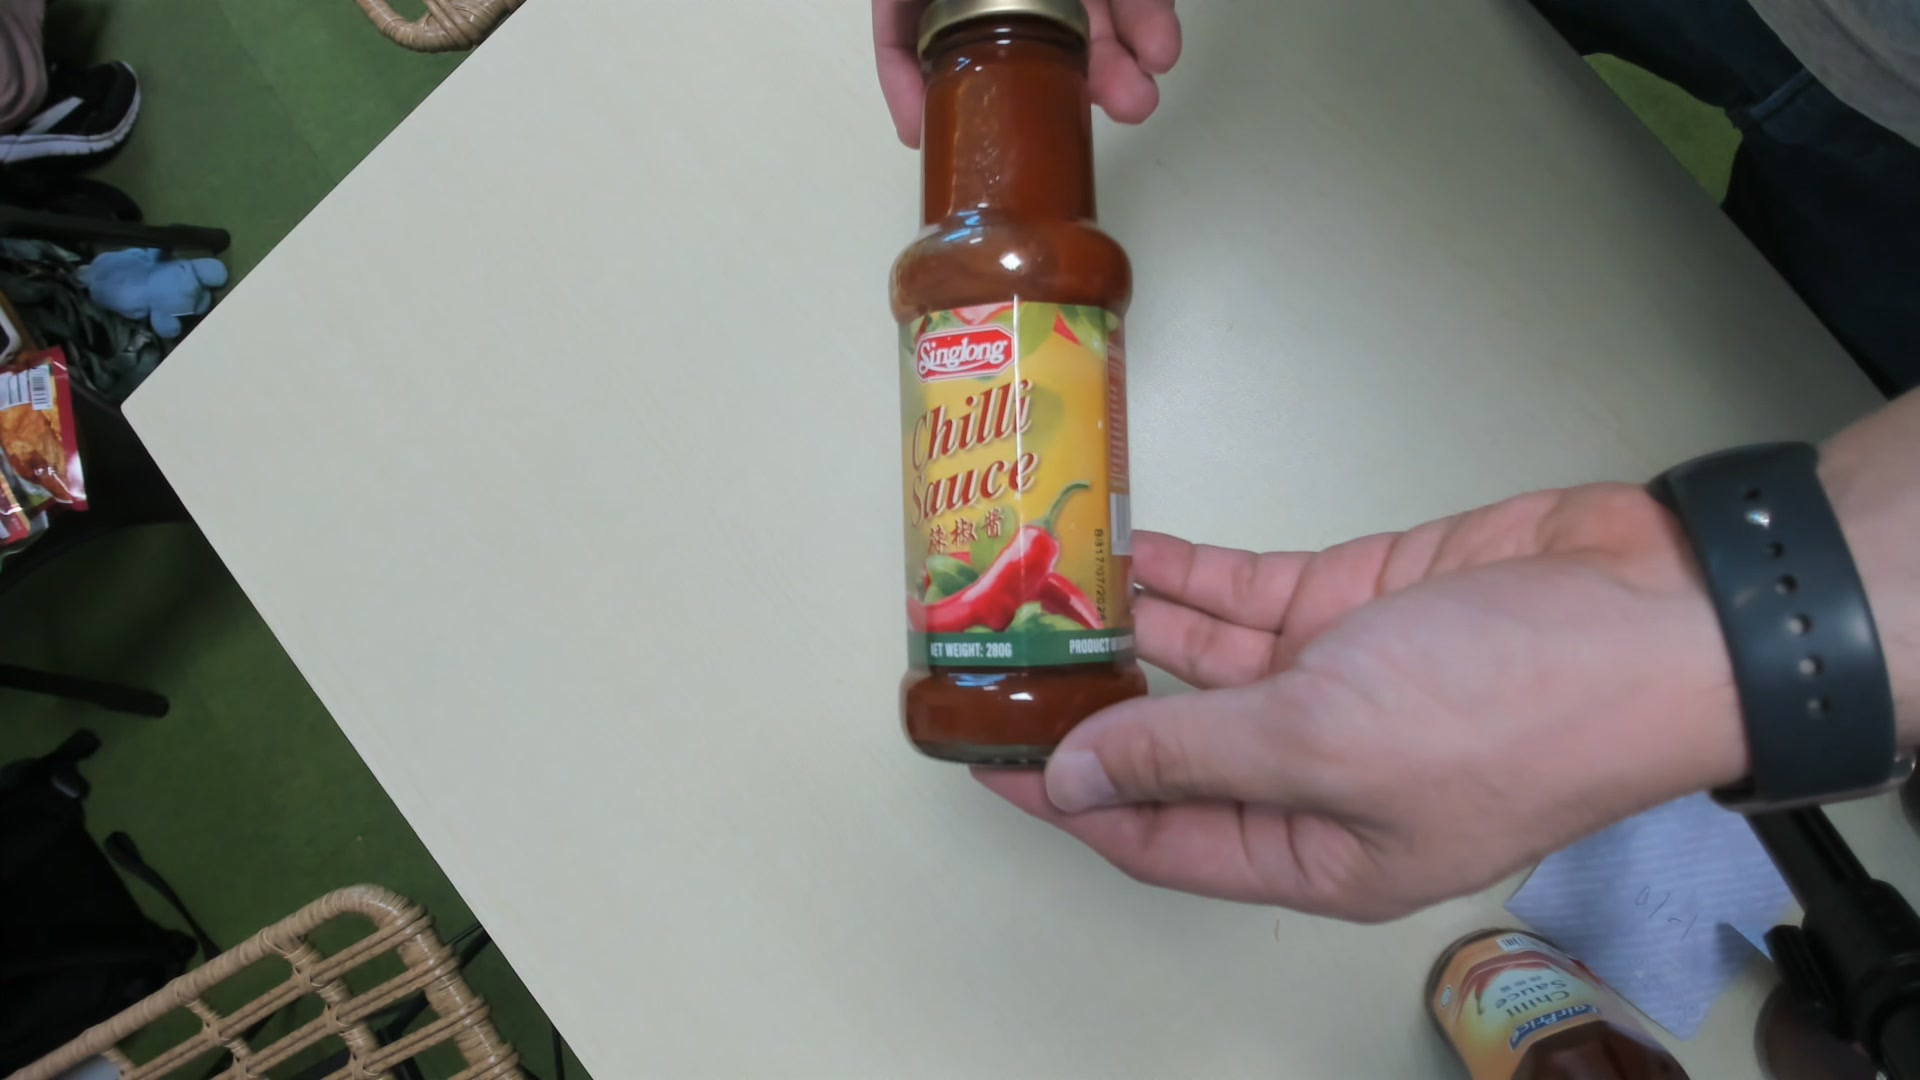KetchupChillSauce_200-299g_Halal_NonHealthy: (890, 3, 1153, 781)
